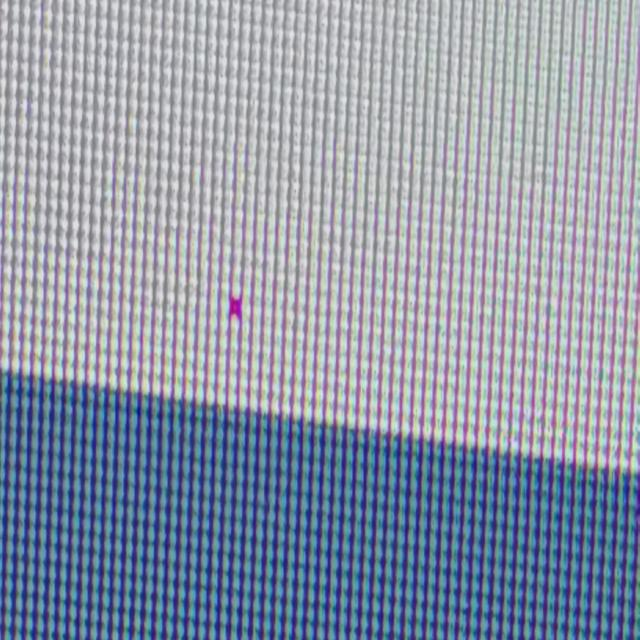Dead pixel: (228, 294, 242, 318)
